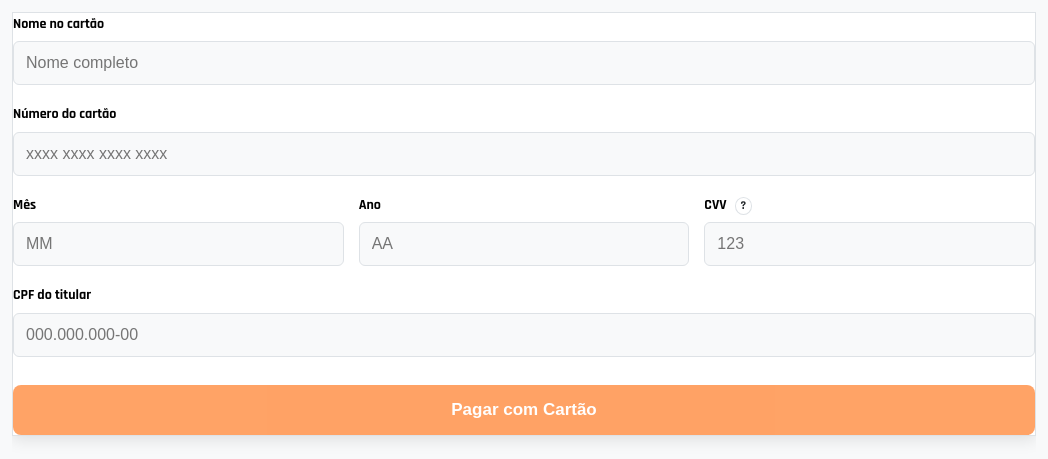
Test: CreditCardForm.vue › formata o CPF
This screenshot has width=1048, height=459.
Type "12345678900" into the field with id "cpfTitular" at point(524, 335), box x1=13 y1=313 x2=1035 y2=357
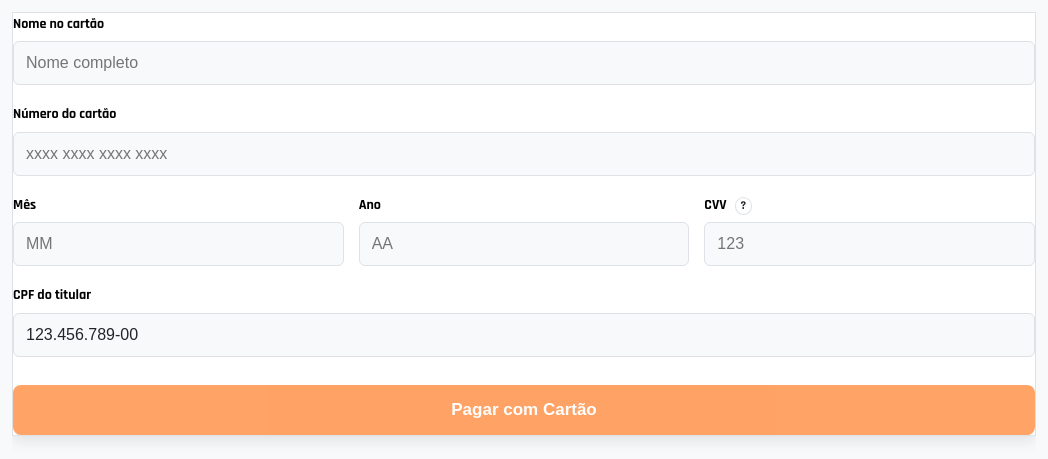
Check: the field with id "cpfTitular" holds "123.456.789-00", box x1=13 y1=313 x2=1035 y2=357
